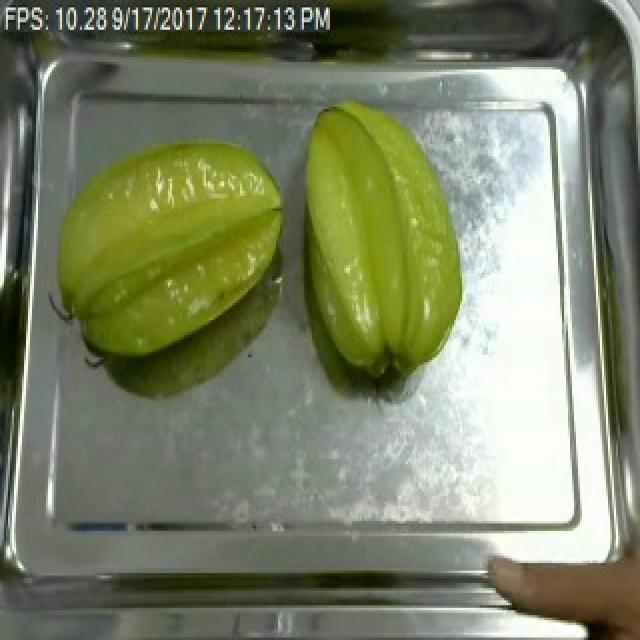fruit: (42, 127, 298, 372), (294, 89, 472, 392)
